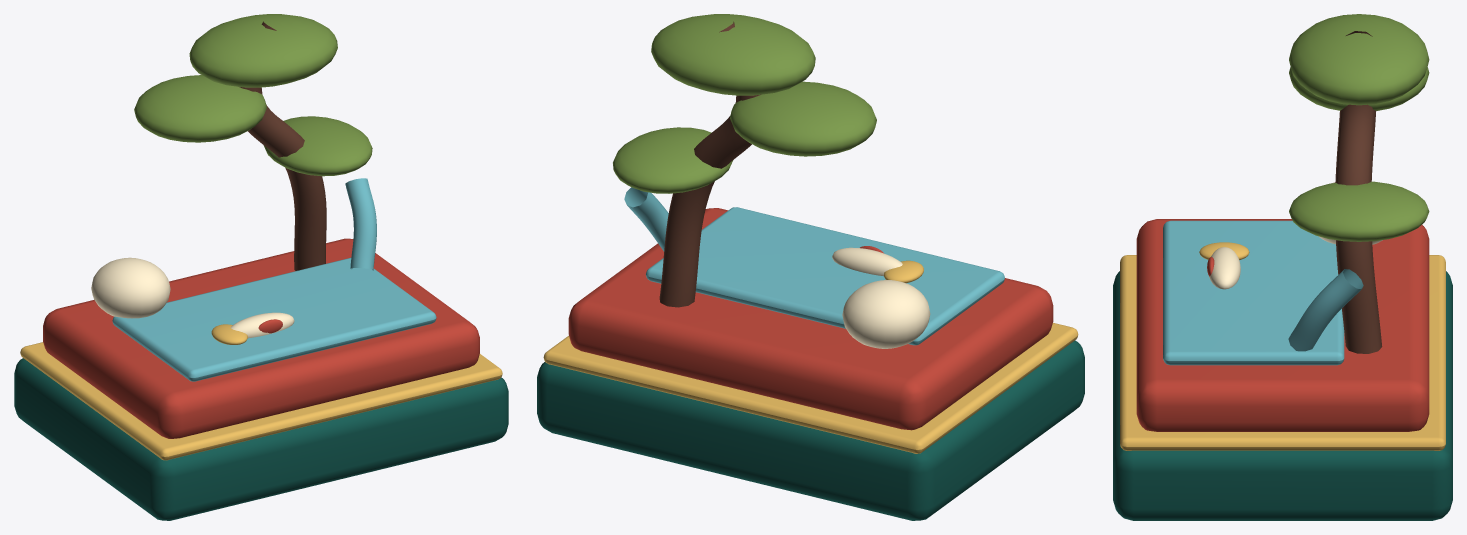
3 renders of one model, left to right at view 1: azimuth 30°, elevation 25°; view 2: azimuth 150°, elevation 25°; view 3: azimuth 270°, elevation 25°, orthographic. The views are drawn at different scales.
Parts seen in each view (by area): view 1: Jade footing, Bento tray, Koi pool, Cloud-pruned foliage, Brass welt, Bonsai trunk, Garden stone, Koi body; view 2: Bento tray, Jade footing, Cloud-pruned foliage, Koi pool, Brass welt, Bonsai trunk, Garden stone, Koi body, Koi tail; view 3: Bento tray, Jade footing, Koi pool, Cloud-pruned foliage, Brass welt, Bonsai trunk, Koi body, Koi tail.
Boxes of the visible parts, left/top/right/bottom form: Jade footing: left=14, top=358, right=508, bottom=520; Bento tray: left=43, top=238, right=479, bottom=438; Koi pool: left=112, top=178, right=436, bottom=381; Cloud-pruned foliage: left=134, top=14, right=372, bottom=176; Brass welt: left=20, top=342, right=502, bottom=460; Bonsai trunk: left=239, top=21, right=326, bottom=270; Garden stone: left=91, top=257, right=170, bottom=318; Koi body: left=231, top=312, right=294, bottom=338; Bento tray: left=568, top=208, right=1053, bottom=430; Jade footing: left=537, top=340, right=1084, bottom=520; Cloud-pruned foliage: left=613, top=14, right=876, bottom=193; Koi pool: left=624, top=187, right=1004, bottom=345; Brass welt: left=543, top=322, right=1078, bottom=453; Bonsai trunk: left=659, top=21, right=760, bottom=307; Garden stone: left=842, top=280, right=930, bottom=348; Koi body: left=832, top=247, right=902, bottom=276; Koi tail: left=884, top=260, right=923, bottom=283; Bento tray: left=1136, top=219, right=1429, bottom=431; Jade footing: left=1113, top=271, right=1452, bottom=520; Koi pool: left=1163, top=220, right=1363, bottom=365; Cloud-pruned foliage: left=1289, top=14, right=1429, bottom=241; Brass welt: left=1120, top=255, right=1445, bottom=450; Bonsai trunk: left=1335, top=31, right=1382, bottom=353; Koi body: left=1209, top=247, right=1240, bottom=289; Koi tail: left=1199, top=242, right=1249, bottom=259.
Size of the model in its own units: 0.79 by 0.7913 by 0.58.
